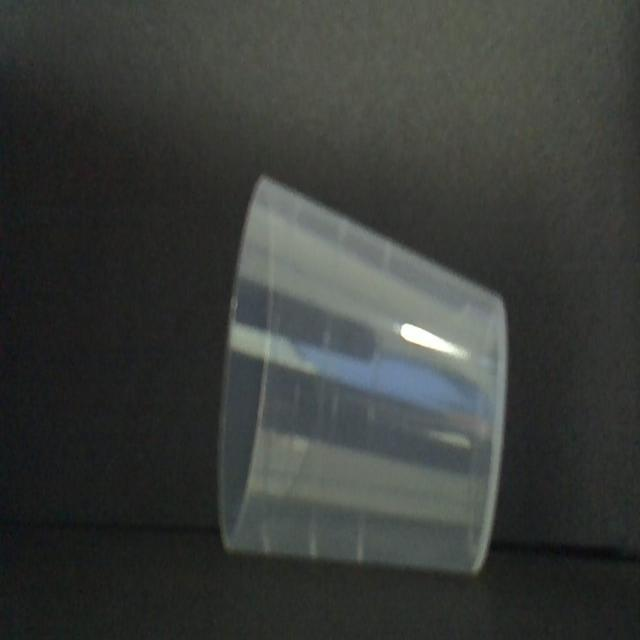cup: (213, 173, 509, 581)
